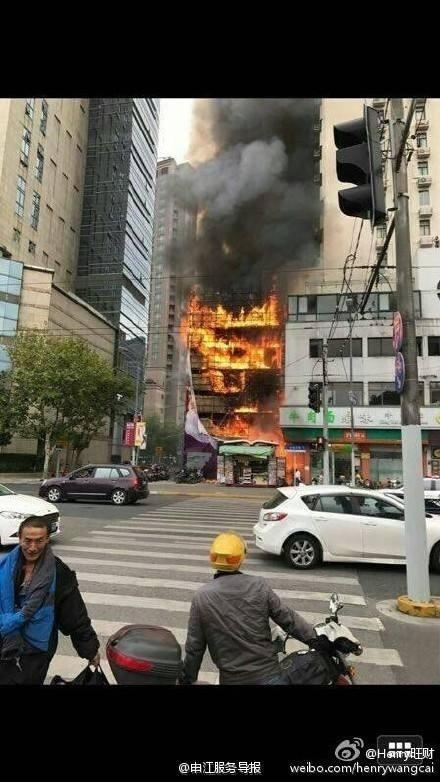fire: (176, 284, 290, 466)
